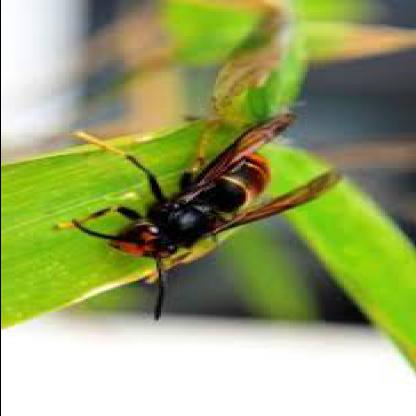asian: (57, 106, 341, 315)
